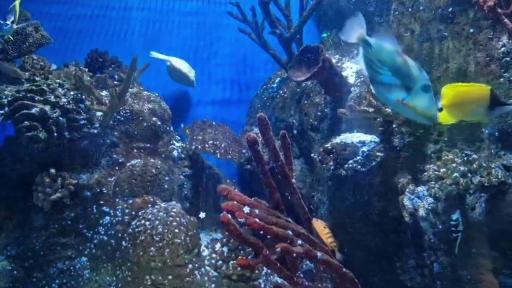Fish: (340, 12, 512, 124), (150, 51, 196, 87), (312, 218, 340, 259), (6, 0, 30, 37)
